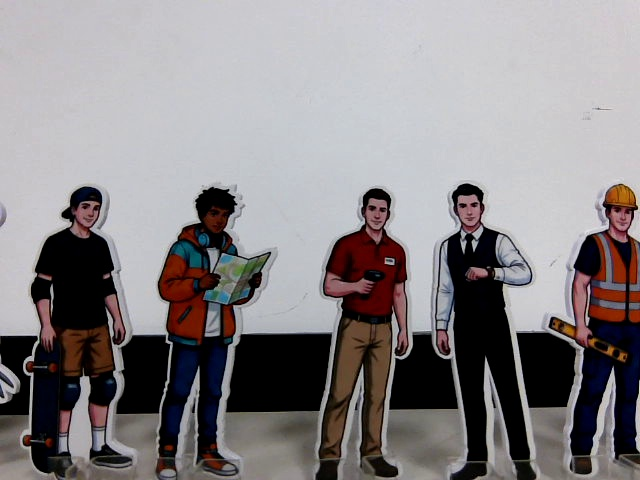community_person: (150, 178, 279, 480), (423, 173, 544, 480), (21, 175, 140, 480), (312, 176, 417, 480), (548, 174, 640, 480)
